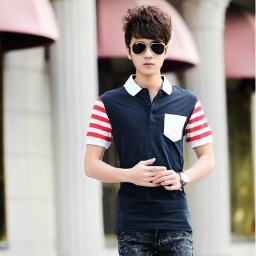face: (123, 5, 172, 78)
